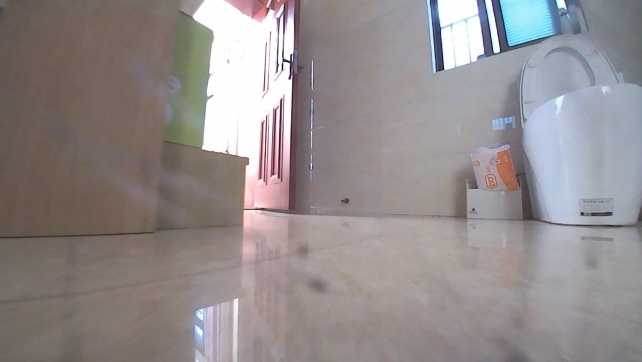door_anno: (240, 0, 297, 213)
toilet: (501, 31, 641, 235)
